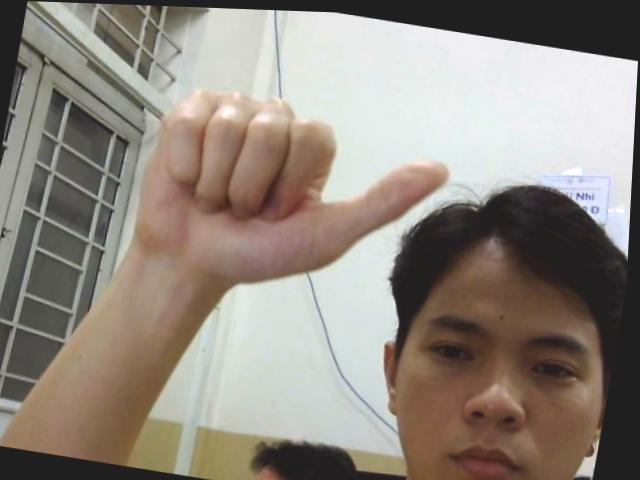A: (121, 69, 459, 306)
